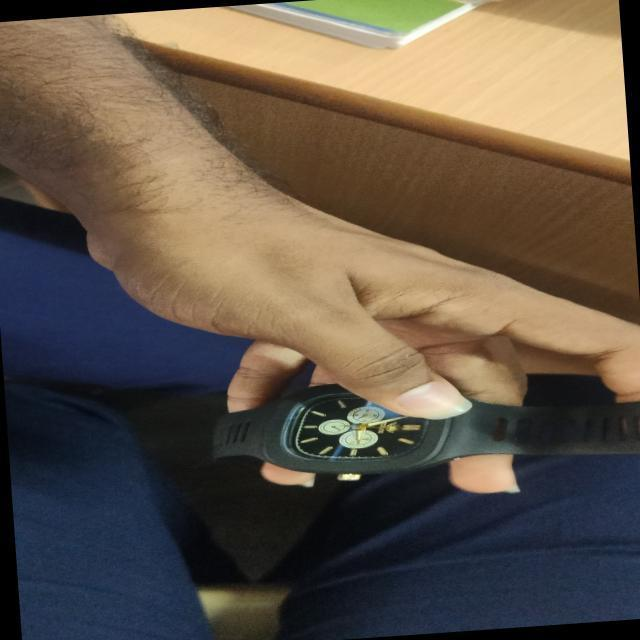Watch: (203, 372, 640, 484)
